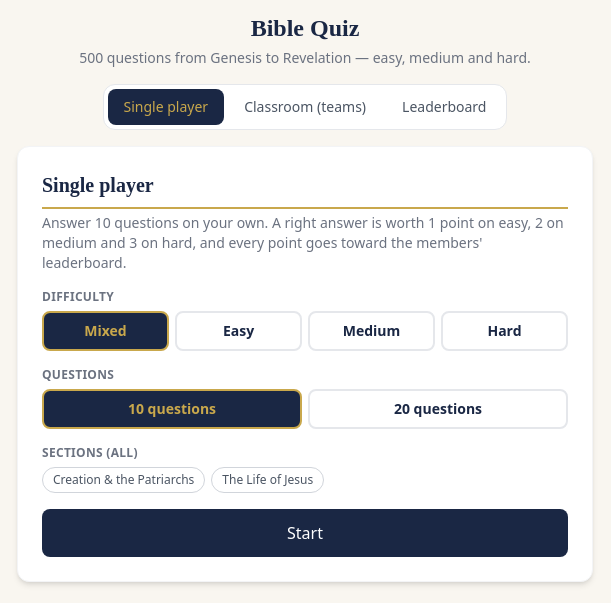
Test: Bible Quiz — single player › starts a game at the chosen difficulty and length
Expected: the text "500 questions from Genesis" is shown, x1=79 y1=48 x2=531 y2=67
Click the button "Hard" at point(504, 331), box x1=441 y1=311 x2=568 y2=351
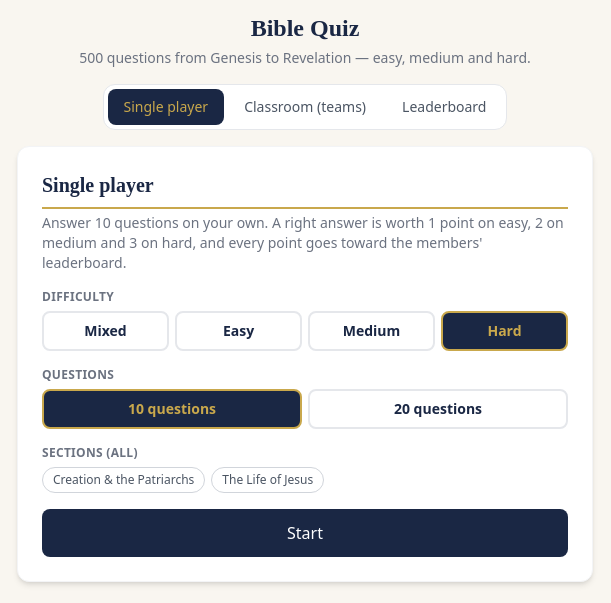
Click the button "20 questions" at point(438, 409), box x1=308 y1=389 x2=568 y2=429
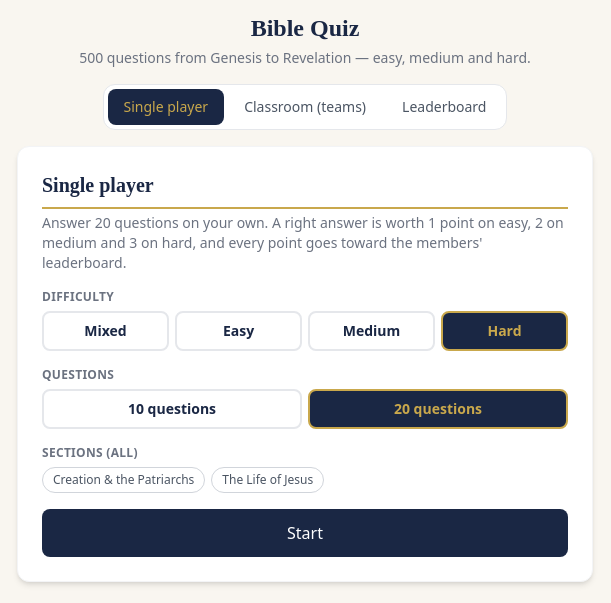
Click the button "The Life of Jesus" at point(268, 480), box x1=211 y1=467 x2=324 y2=493
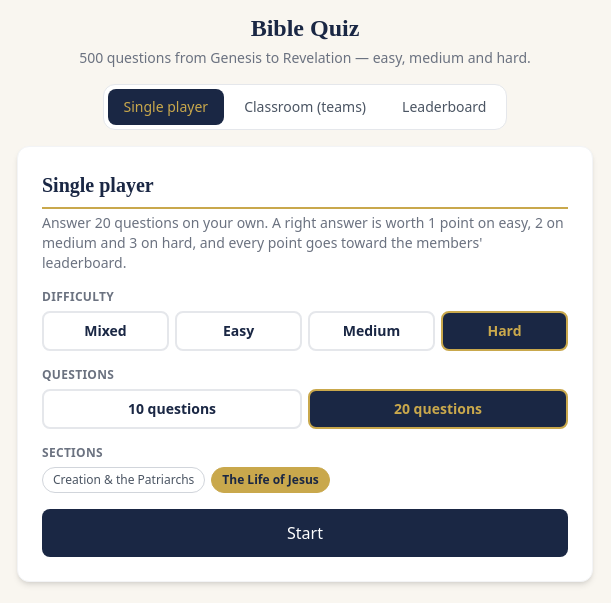
Click the button "Start" at point(305, 533), box x1=42 y1=509 x2=568 y2=557
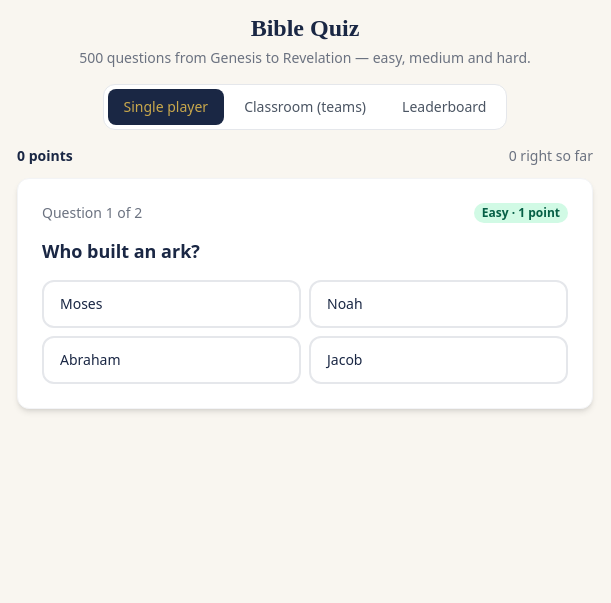
Result: the text "Who built an ark?" is shown at x1=42 y1=239 x2=200 y2=263
